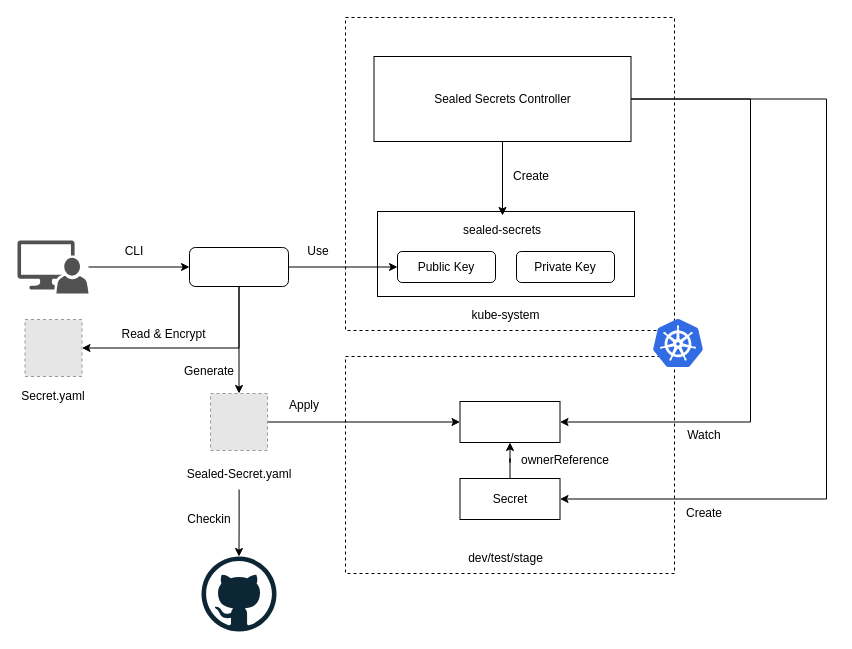
The diagram is 852 pixels wide and 649 high, and some of its shapes have lost their labels. Grey dashed boxes stand in for pictures. Each missing label, with the box of its shape:
kubeseal: (188, 246, 288, 286)
SealedSecret: (459, 400, 560, 442)
